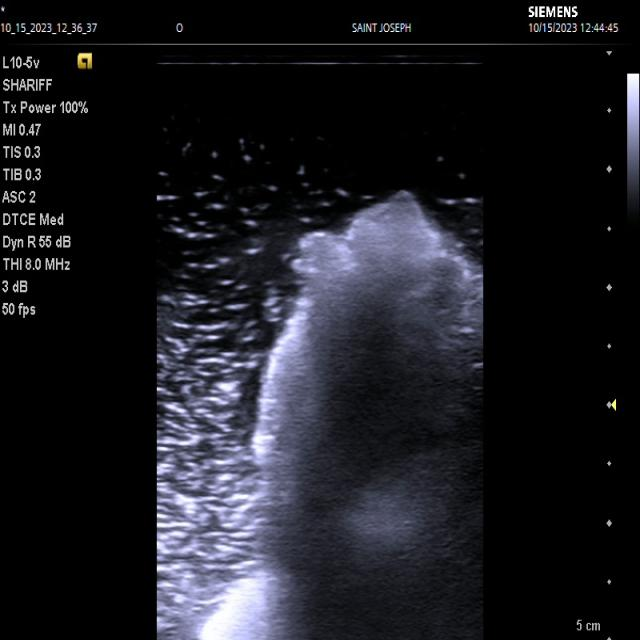tissue: (198, 192, 485, 640)
